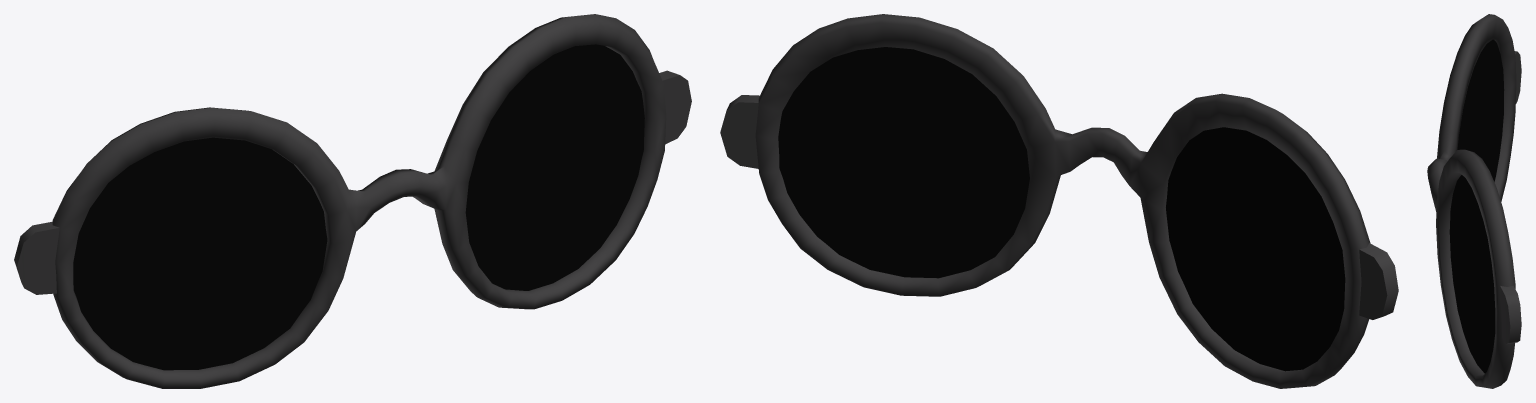
The model's file is AccessoryGlassCircle0.glb.
The picture shows the model from 3 angles, left to right: view 1: azimuth 30°, elevation 25°; view 2: azimuth 150°, elevation 25°; view 3: azimuth 270°, elevation 25°; orthographic projection. The views are drawn at different scales.
Visible parts, largest first — view 1: AccessoryAlpha1__mAccessoryAlpha, Accessory__mAccessory; view 2: AccessoryAlpha1__mAccessoryAlpha, Accessory__mAccessory; view 3: Accessory__mAccessory, AccessoryAlpha1__mAccessoryAlpha.
Part boxes in pixels (x1,y1,x2,y2): AccessoryAlpha1__mAccessoryAlpha: [73, 44, 644, 370]; Accessory__mAccessory: [14, 14, 691, 388]; AccessoryAlpha1__mAccessoryAlpha: [778, 47, 1345, 371]; Accessory__mAccessory: [720, 14, 1398, 388]; Accessory__mAccessory: [1427, 14, 1521, 388]; AccessoryAlpha1__mAccessoryAlpha: [1449, 39, 1504, 373].
Bounding box in the file's own units: 6.21 × 2.44 × 0.9632.
2 materials, 2 textured.
